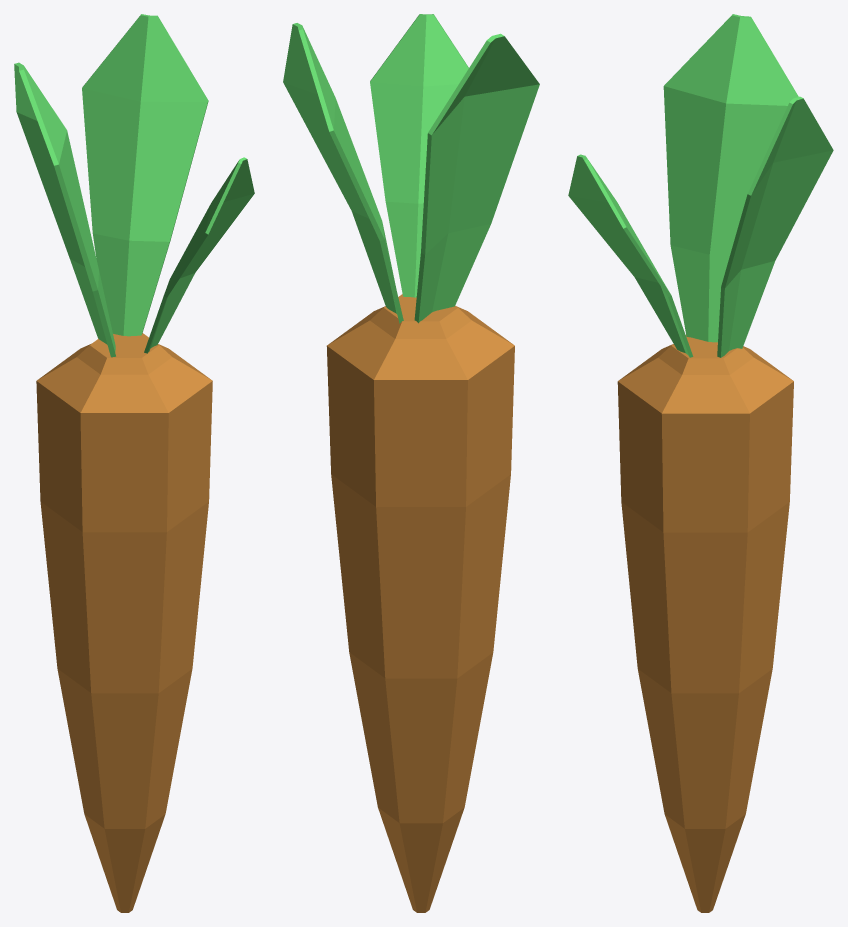
The model's file is Carrot.fbx.
3 views of the same model, side by side, from view 1: azimuth 30°, elevation 25°; view 2: azimuth 150°, elevation 25°; view 3: azimuth 270°, elevation 25° (orthographic). The views are drawn at different scales.
Visible parts, largest first — view 1: Carrot; view 2: Carrot; view 3: Carrot.
Boxes of the visible parts, x1,y1,x2,y2 form: Carrot: (14,14,254,912); Carrot: (283,14,539,912); Carrot: (568,14,833,912).
Bounding box in the file's own units: 50.18 × 206 × 58.06.
